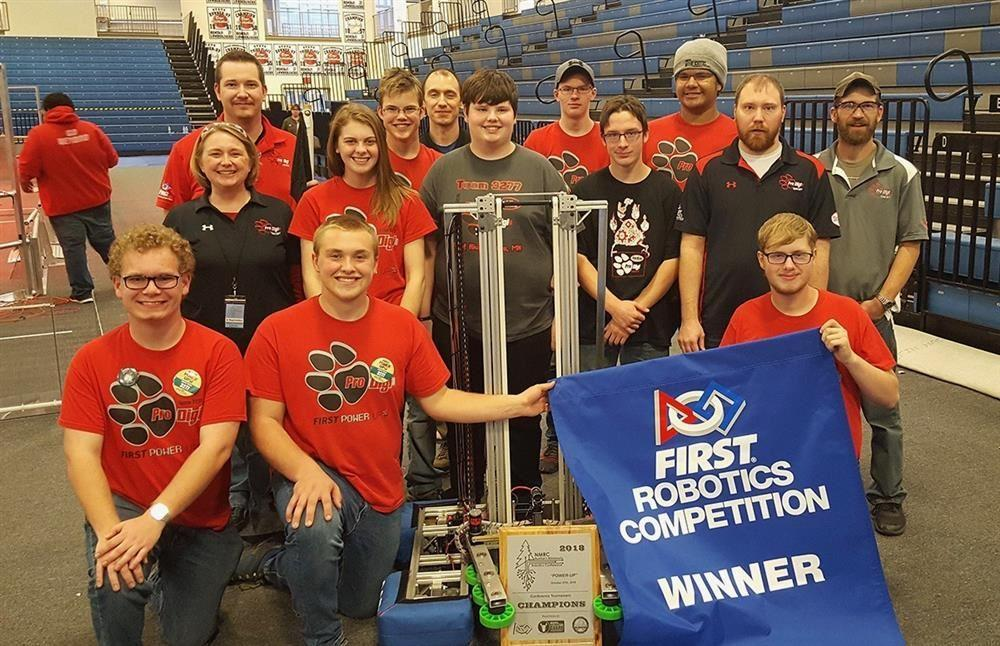robot: (378, 190, 624, 646)
